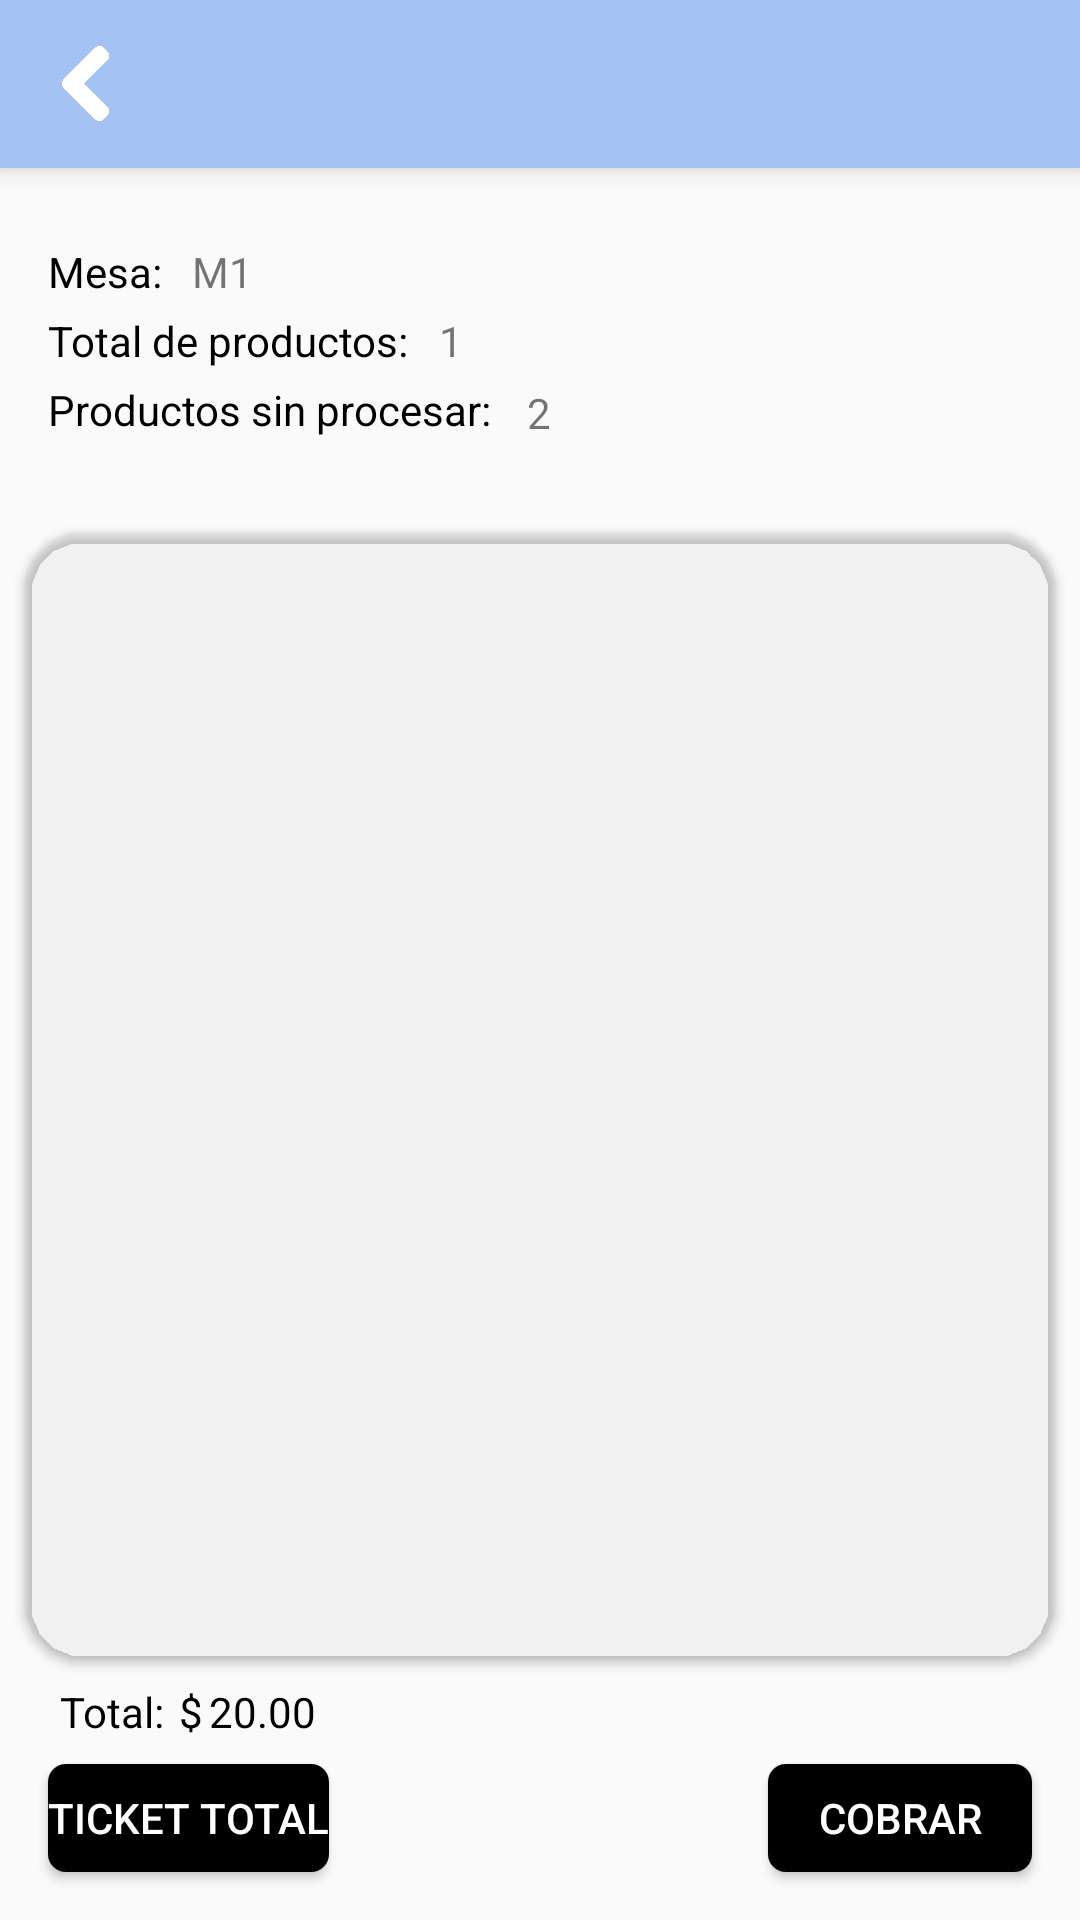

Icon bounding boxes for this 1080w x 1920h phone screenshot, format (x1, y1, x2, y2):
back: (62, 46, 109, 121)
